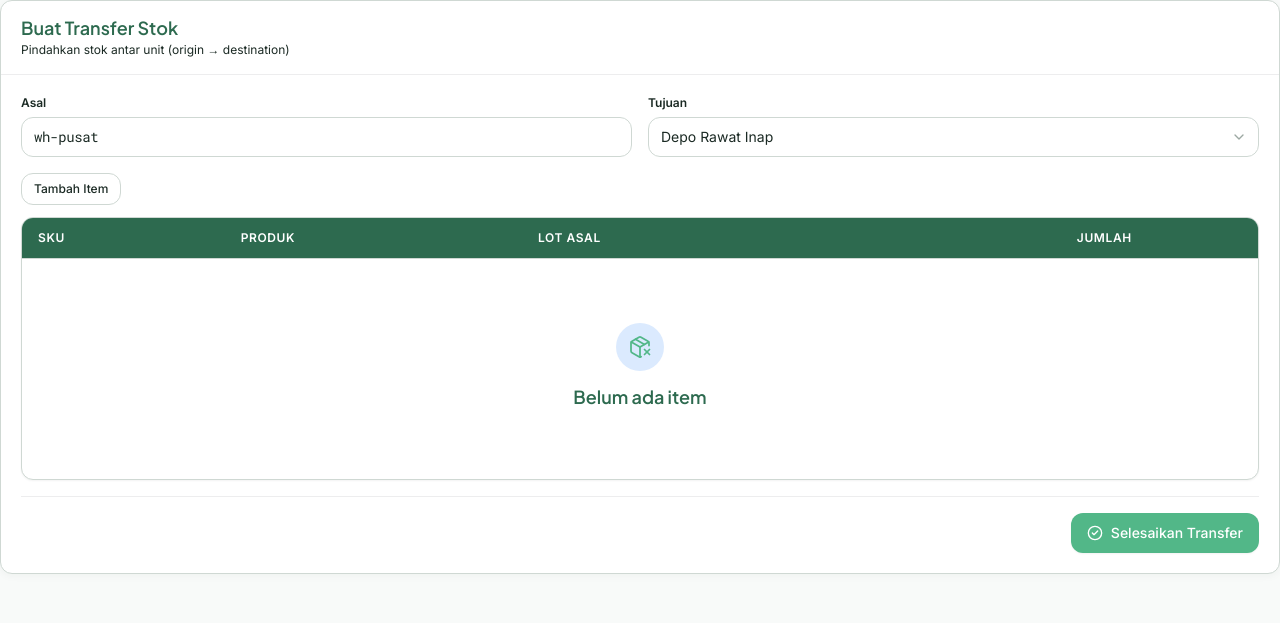
Scenario: TransferNew › validates at least one item before completing
Step 1. Click the button "Selesaikan Transfer" → (1165, 532), box x1=1071 y1=512 x2=1259 y2=552
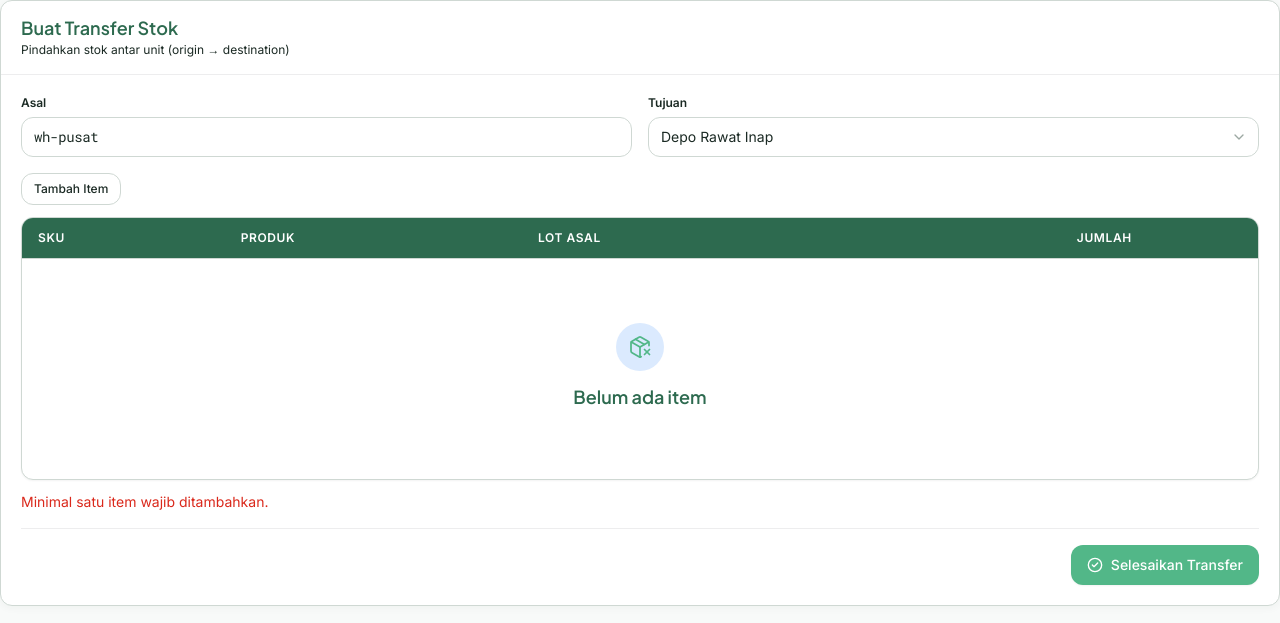
Expected: the message "Minimal satu item wajib ditambahkan." is shown, x1=21 y1=492 x2=268 y2=510
